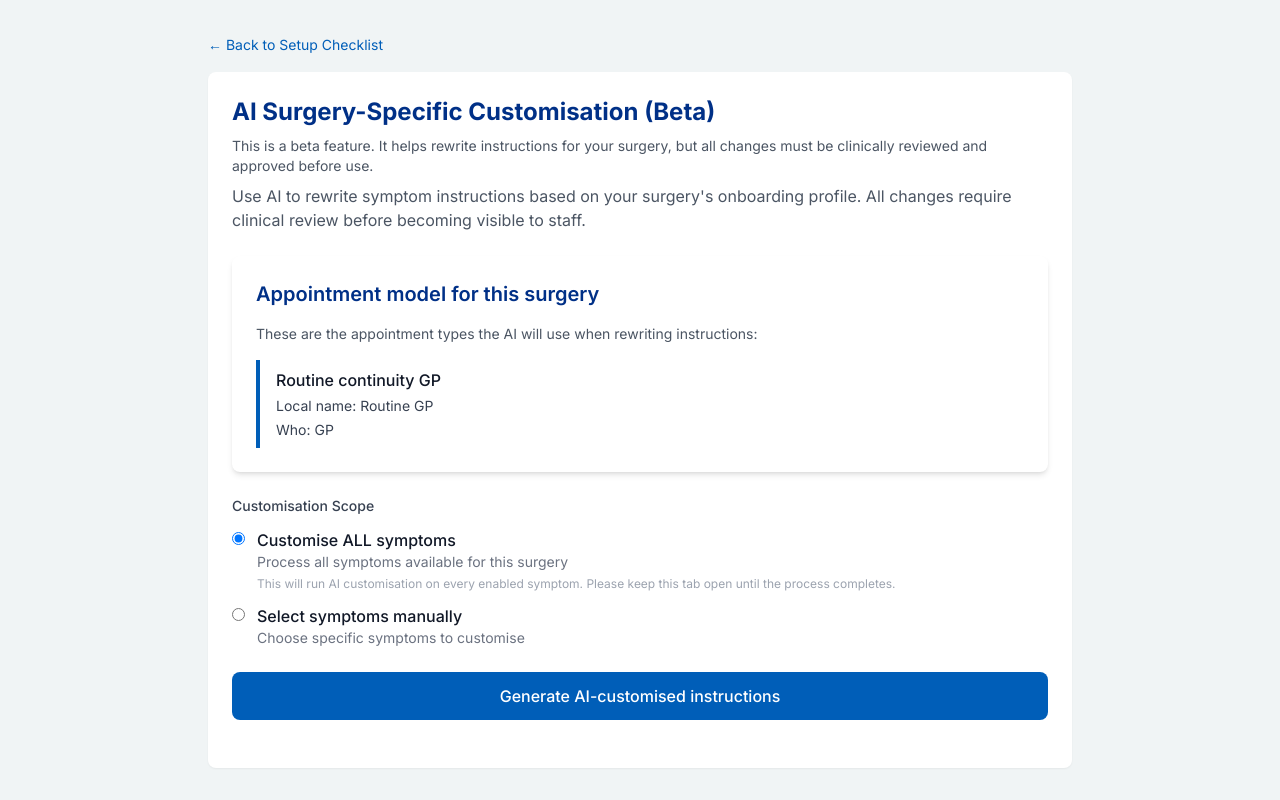
AISetupClient — whole-library customisation › cancelling leaves the library untouched
Click the button "Generate AI-customised instructions" at (640, 696), box [232,672,1048,720]
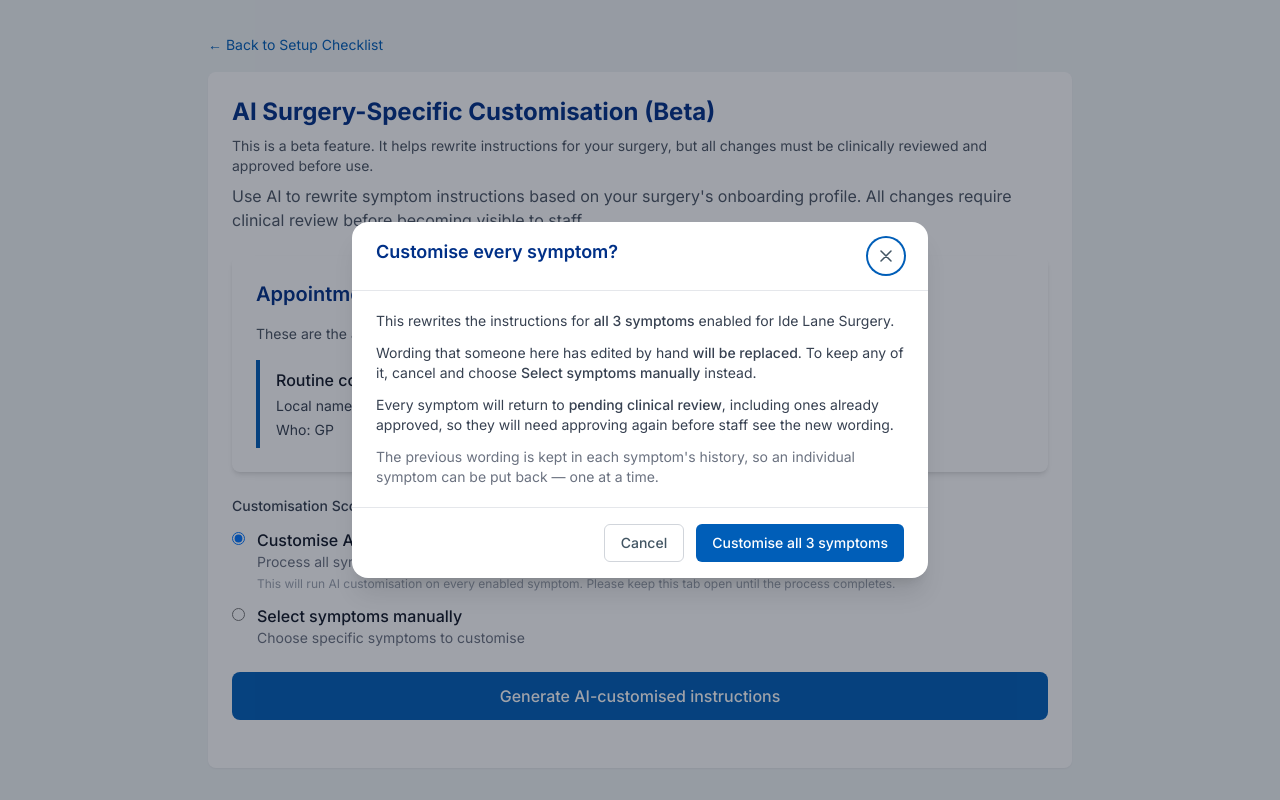
Click the button "Cancel" at (644, 543), box [604,524,684,562]
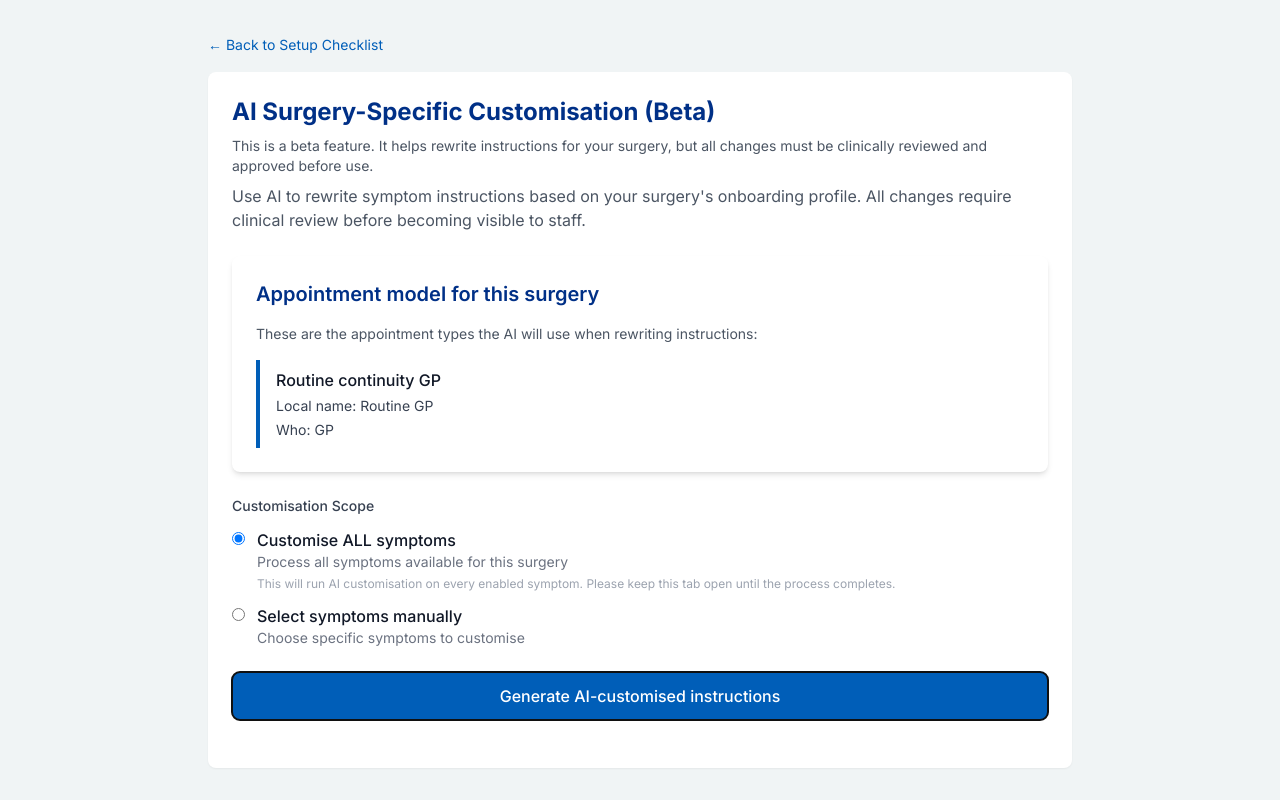
Expected: the heading "Customise every symptom?" is gone
